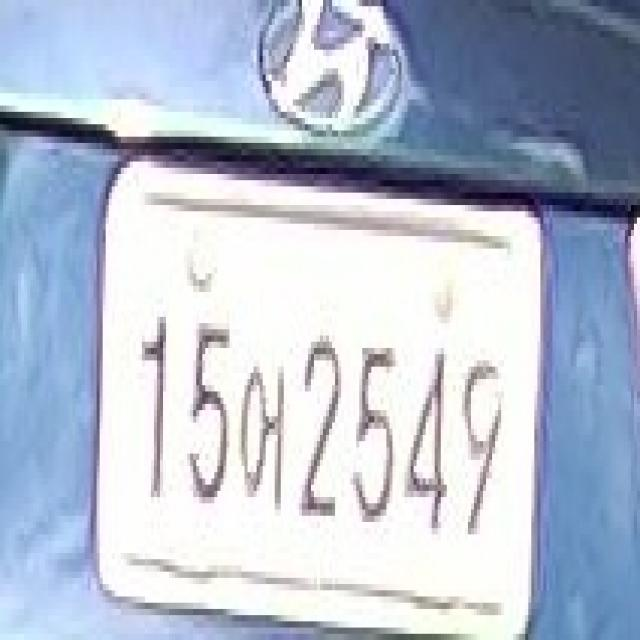1: (130, 298, 178, 522)
2: (296, 329, 344, 541)
4: (404, 348, 453, 547)
5: (181, 298, 236, 522), (350, 329, 402, 547)
9: (456, 348, 513, 559)
eo: (235, 342, 290, 528)
license_plate: (87, 136, 546, 640)
